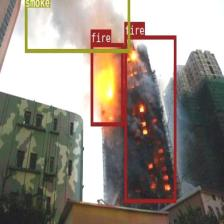fire: (124, 34, 176, 202), (90, 42, 123, 125)
smoke: (23, 0, 129, 51)
